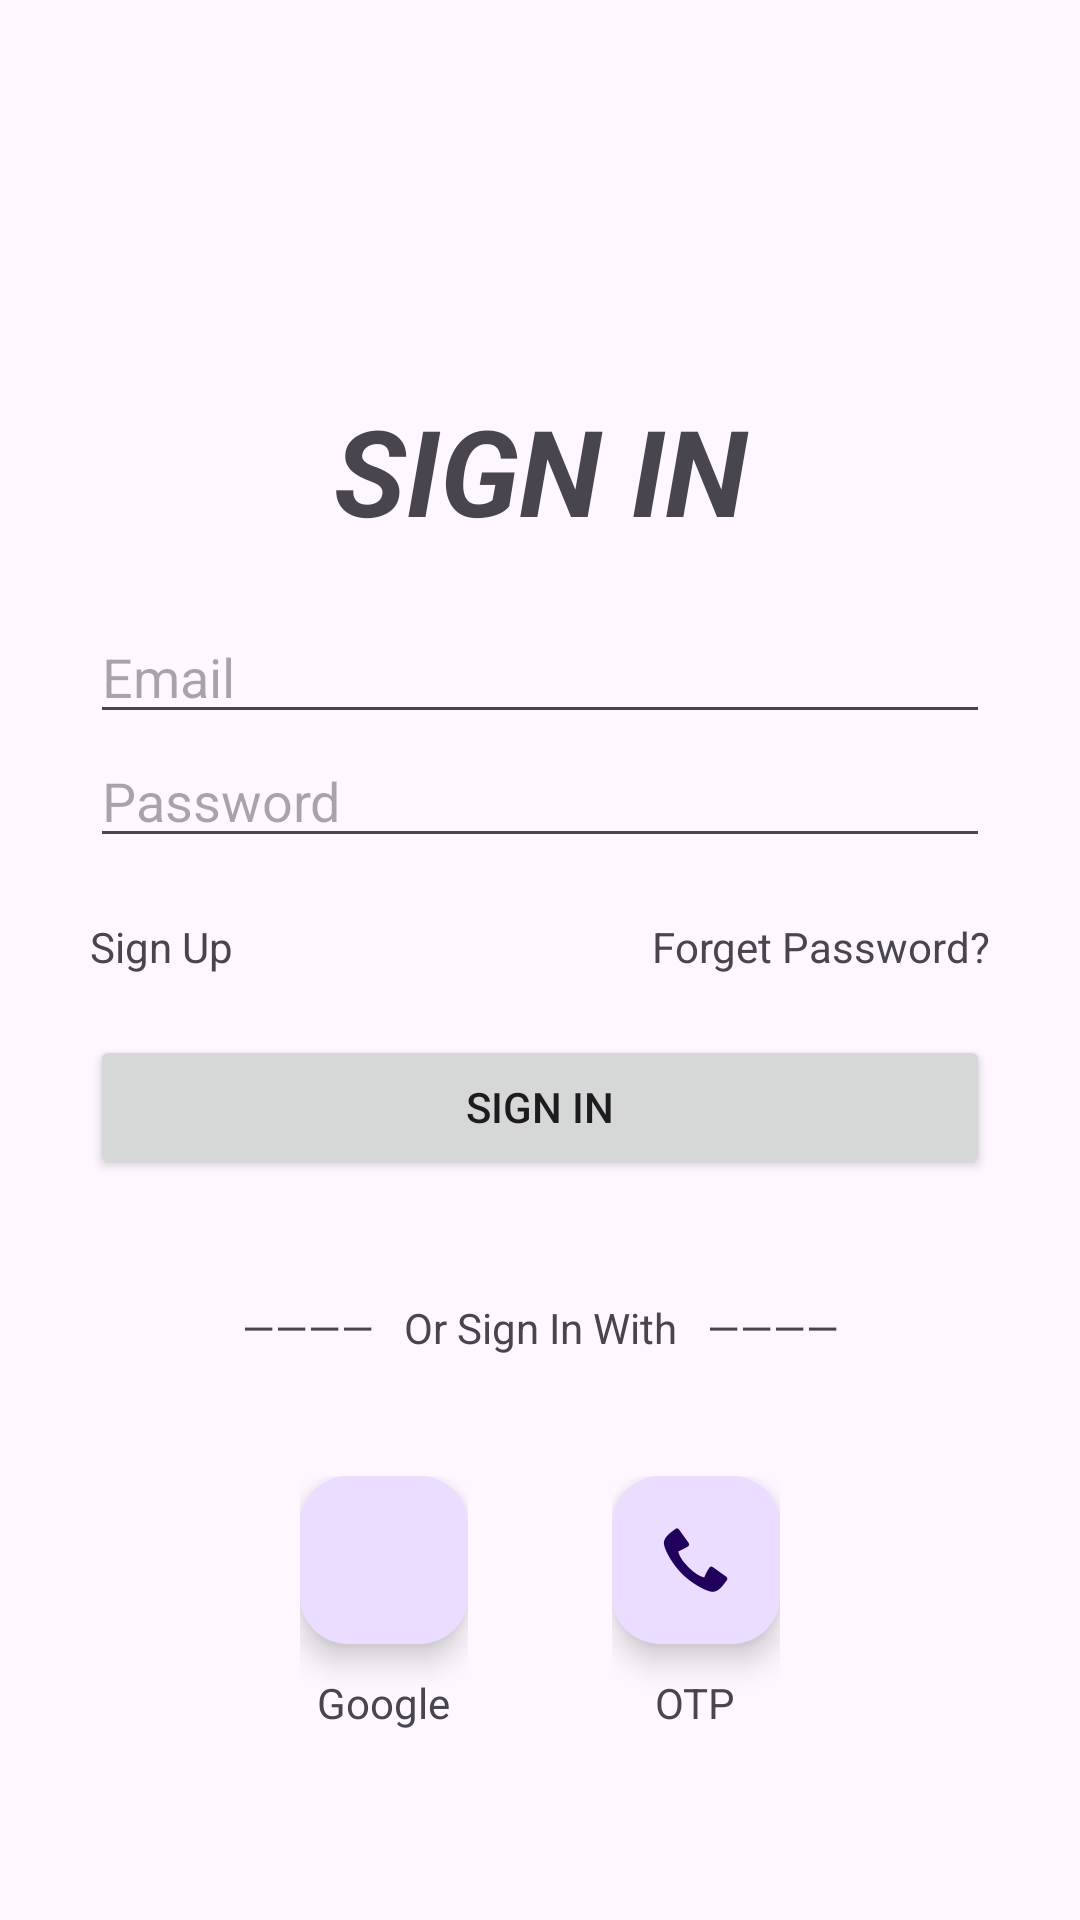

Icon bounding boxes for this 1080 × 1920 phone screenshot, format (x1, y1, x2, y2):
phone call: (612, 1476, 780, 1644)
